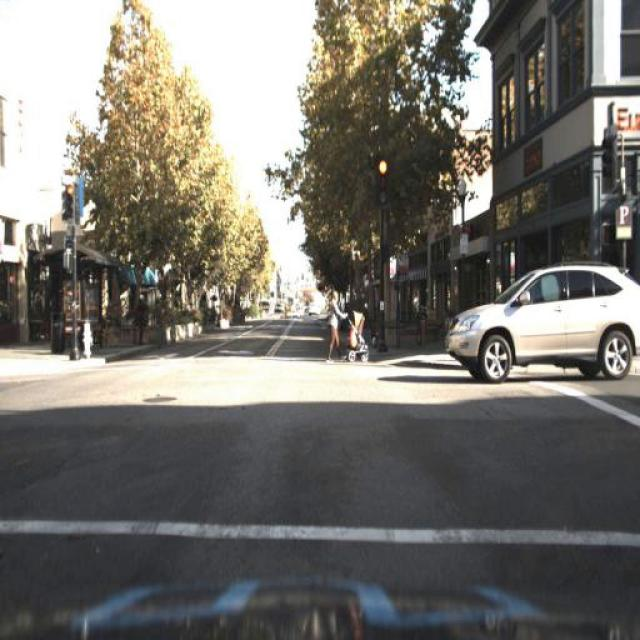semaforo: (61, 184, 80, 227), (376, 159, 392, 209)
